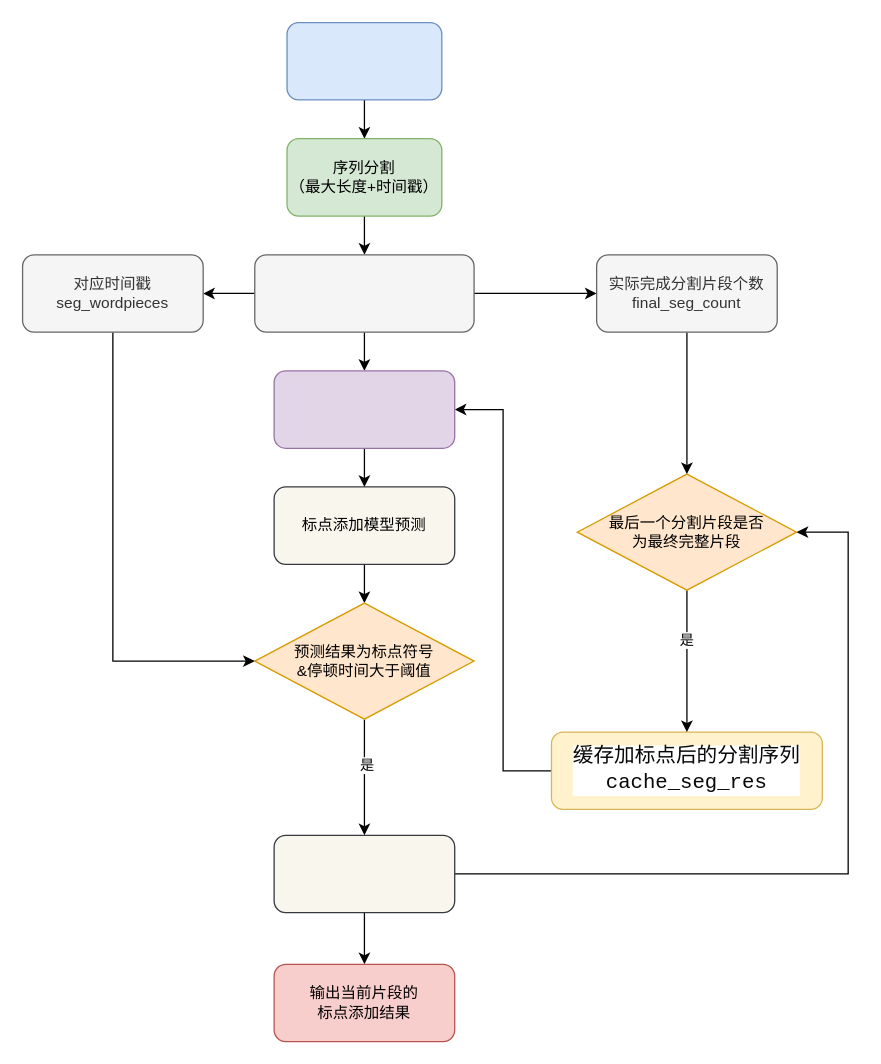
Some shapes in this 881 by 1064 pixel diagram are drawn without their labels. Here are the shapes that lost their labels. From the top down, the box of each, then its label:
(286, 21, 442, 100): 语音识别结果序列 asr_result
(253, 253, 474, 332): 分割后的结果序列 seg_result
(273, 370, 455, 448): 当前片段和缓存的上一个片段拼接作为当前标点添加模型预测输入
(273, 834, 455, 913): 最后一个分割片段 添加标点
